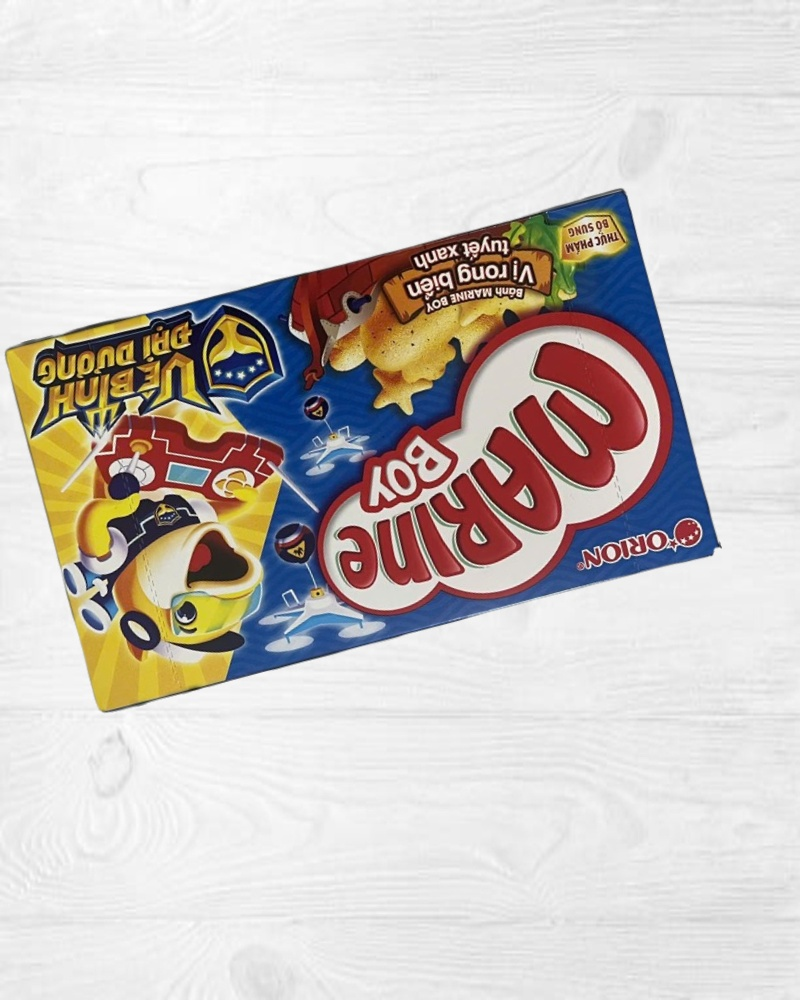Marine: (1, 183, 723, 719)
